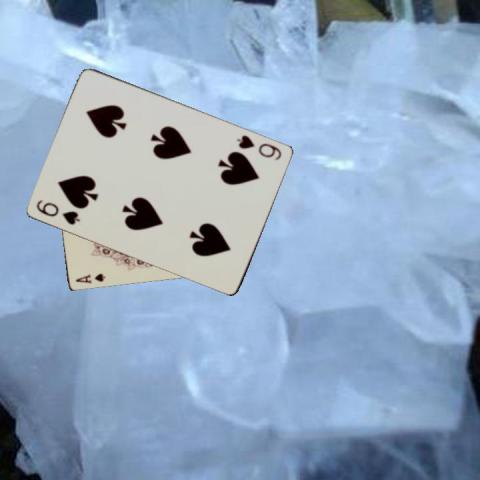6s: (234, 131, 283, 162), (33, 196, 82, 226)
As: (73, 270, 106, 285)
